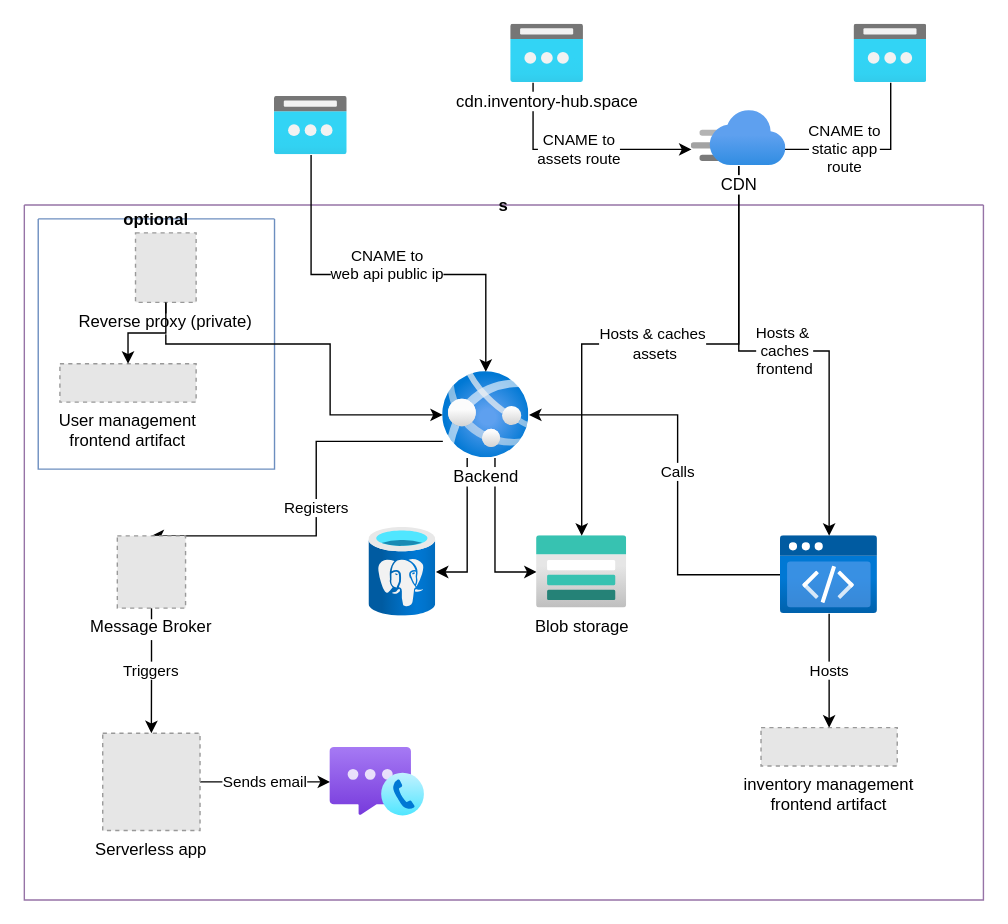
The diagram is 1008 pixels wide and 924 high, and some of its shapes have lost their labels. Grey dashed boxes stand in for pictures. Each missing label, with the centre of its shape:
"api.inventory-hub.space" goes at point 310,125.
"Azure Communication Service" goes at point 376,781.
"DB" goes at point 401,571.
"inventory-hub.space" goes at point 889,53.
"Static App Host" goes at point 828,574.
